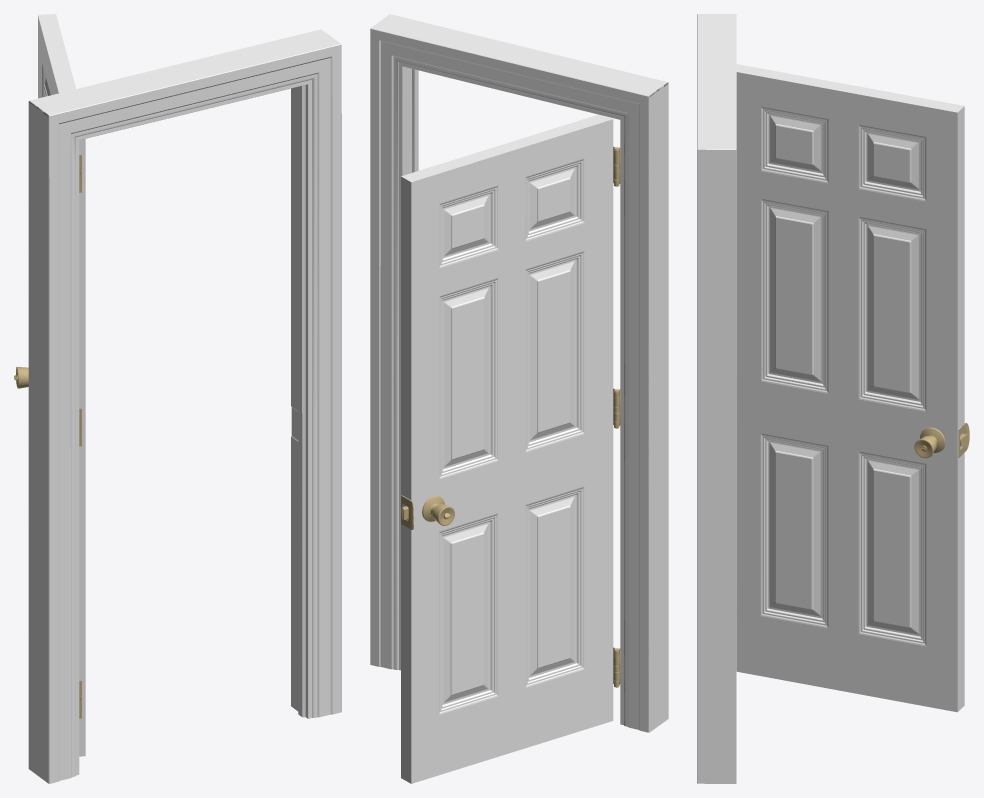
The model's file is panel_interior_door_open_ultra.glb.
3 renders of one model, left to right at view 1: azimuth 30°, elevation 25°; view 2: azimuth 150°, elevation 25°; view 3: azimuth 270°, elevation 25°, orthographic. The views are drawn at different scales.
Parts seen in each view (by area): view 1: doorFrame_geo, doorBase_geo; view 2: doorBase_geo, doorFrame_geo, frameHinges_geo, doorHinges_geo; view 3: doorBase_geo, doorFrame_geo.
Boxes of the visible parts, <box> form: doorFrame_geo: <box>28,29,341,783</box>; doorBase_geo: <box>38,14,85,756</box>; doorBase_geo: <box>401,114,613,783</box>; doorFrame_geo: <box>370,14,668,732</box>; frameHinges_geo: <box>613,146,619,687</box>; doorHinges_geo: <box>614,147,620,687</box>; doorBase_geo: <box>736,64,964,712</box>; doorFrame_geo: <box>697,14,736,783</box>.
Size of the model in its own units: 0.9751 by 2.12 by 0.8257.
Materials: 2 (2 with a texture image).
